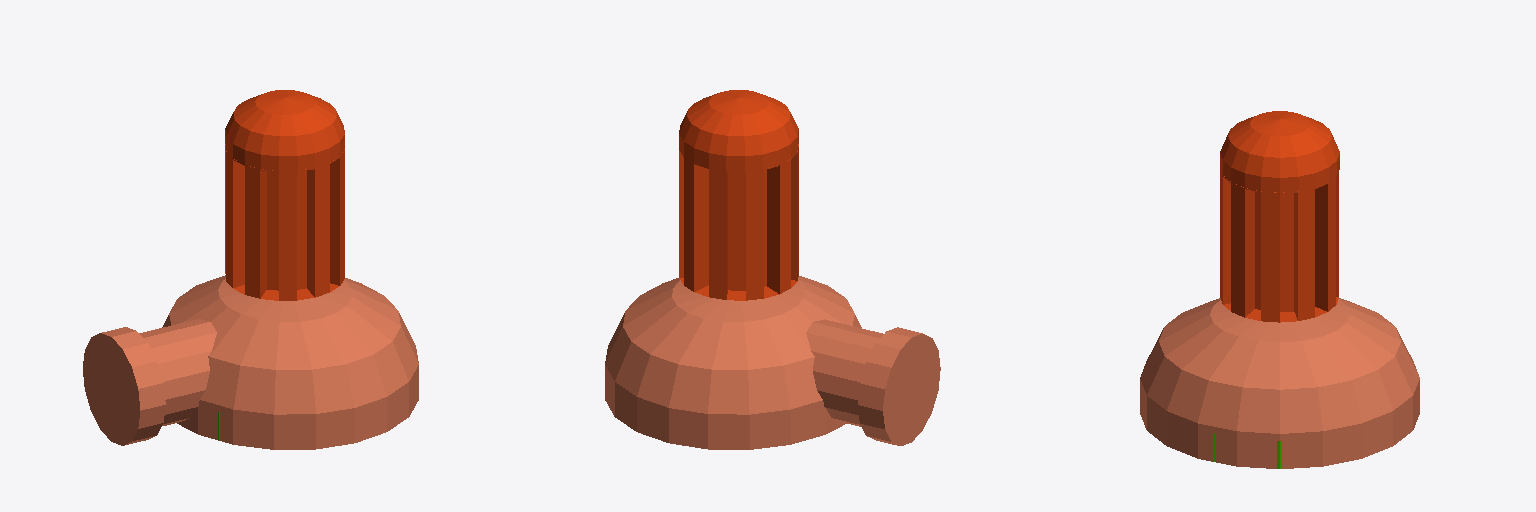
The model's file is sludge_return_pump.obj.
3 renders of one model, left to right at view 1: azimuth 30°, elevation 25°; view 2: azimuth 150°, elevation 25°; view 3: azimuth 270°, elevation 25°, orthographic.
Parts seen in each view (by area): view 1: __.1, __.4, __, __.29, __.28; view 2: __.1, __.4, __, __.29, __.28; view 3: __.1, __.4, __.
Part boxes in pixels (bbox=[...]): __.1: bbox=[162, 275, 418, 449]; __.4: bbox=[225, 144, 344, 300]; __: bbox=[225, 90, 344, 172]; __.29: bbox=[83, 327, 165, 445]; __.28: bbox=[139, 319, 216, 425]; __.1: bbox=[605, 276, 861, 449]; __.4: bbox=[679, 144, 798, 300]; __: bbox=[679, 90, 798, 172]; __.29: bbox=[858, 327, 940, 445]; __.28: bbox=[806, 319, 883, 426]; __.1: bbox=[1140, 298, 1419, 468]; __.4: bbox=[1220, 169, 1338, 322]; __: bbox=[1220, 111, 1339, 193].
Size of the model in its own units: 338 by 339 by 285.